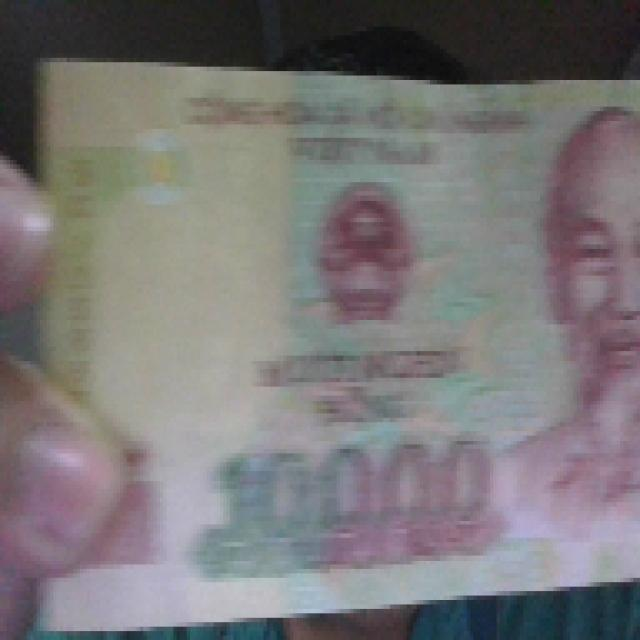10 000 VND: (26, 49, 636, 622)
